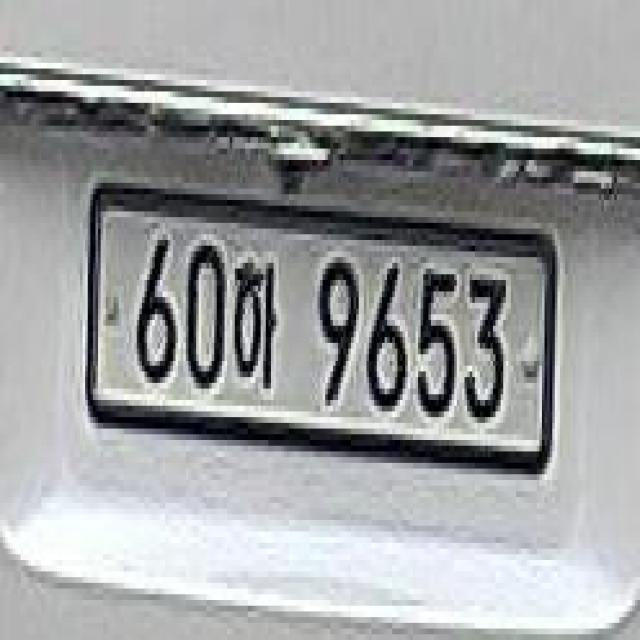0: (182, 228, 230, 394)
3: (466, 266, 510, 425)
5: (414, 261, 461, 421)
6: (132, 224, 180, 398), (363, 260, 412, 424)
9: (315, 247, 363, 420)
ha: (231, 246, 281, 398)
license_plate: (73, 164, 571, 513)
